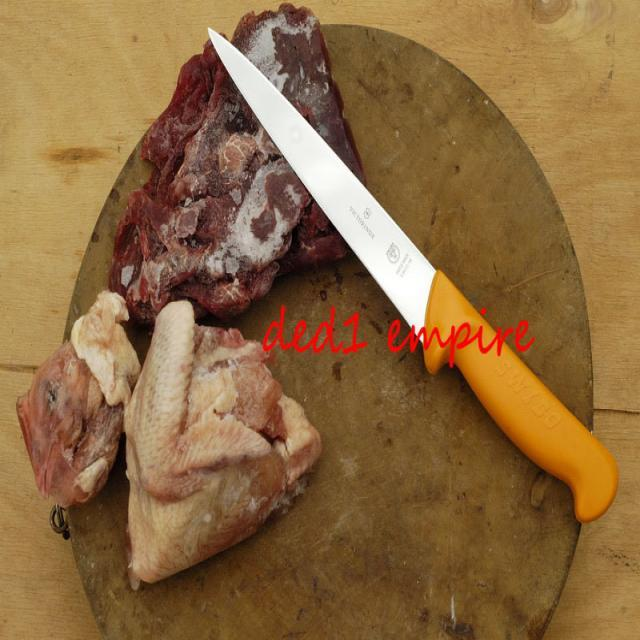Pisau: (196, 18, 623, 531)
